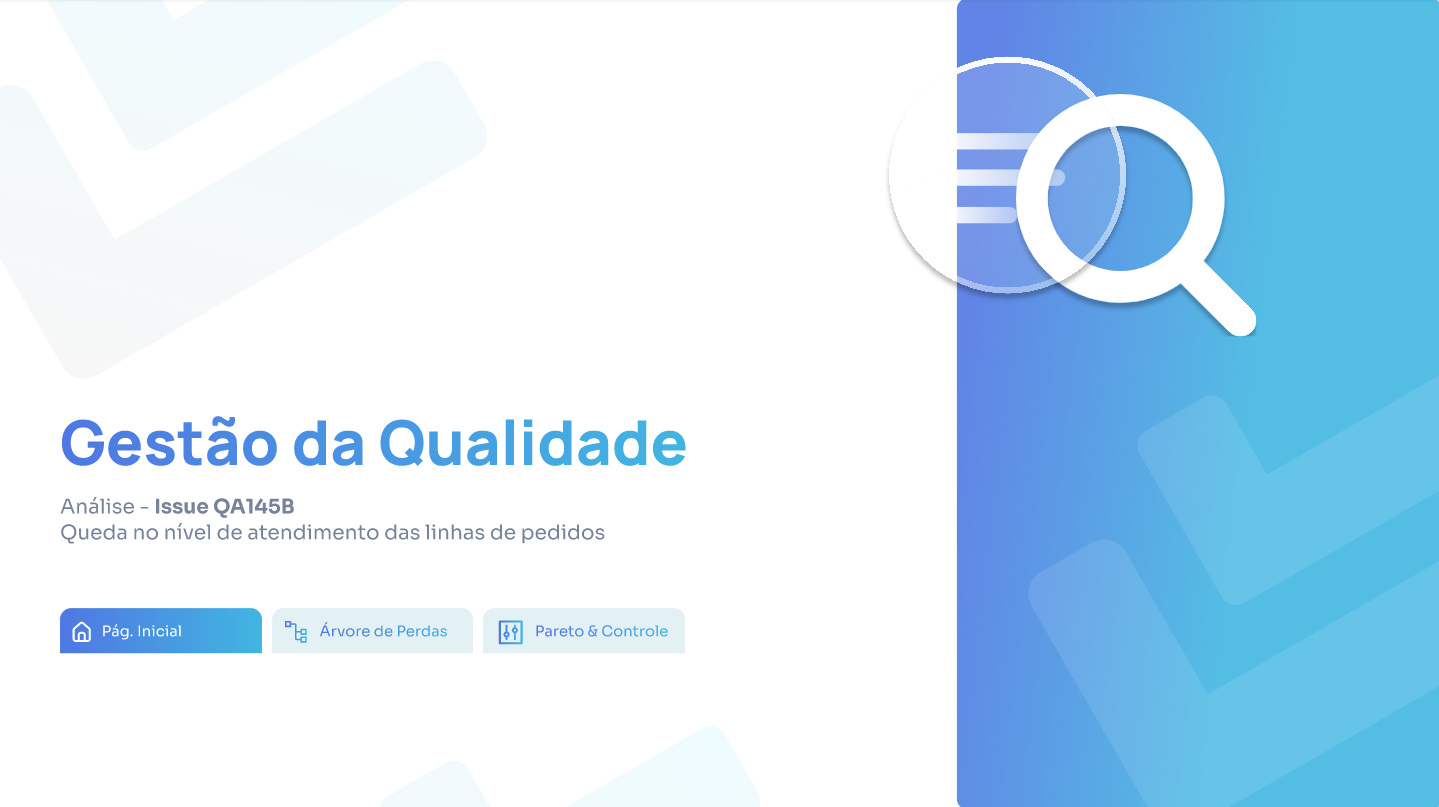

Layout of this report page (visuals, bound fields, positions):
{"tool":"powerbi","page":{"name":"Página Inicial","canvas":[1280,720],"ordinal":0},"visuals":[{"type":"actionButton","box":[243.8,540.9,177.3,42.6],"z":0},{"type":"actionButton","box":[430,540.9,177.3,42.6],"z":1000}]}

Visuals, with their boxes in screenshot pixels (x1, y1, x2, y2), scaled from the page's 1280x720 canvas onto the 1439x807 screenshot:
actionButton: [x1=274, y1=606, x2=473, y2=654]
actionButton: [x1=483, y1=606, x2=683, y2=654]
